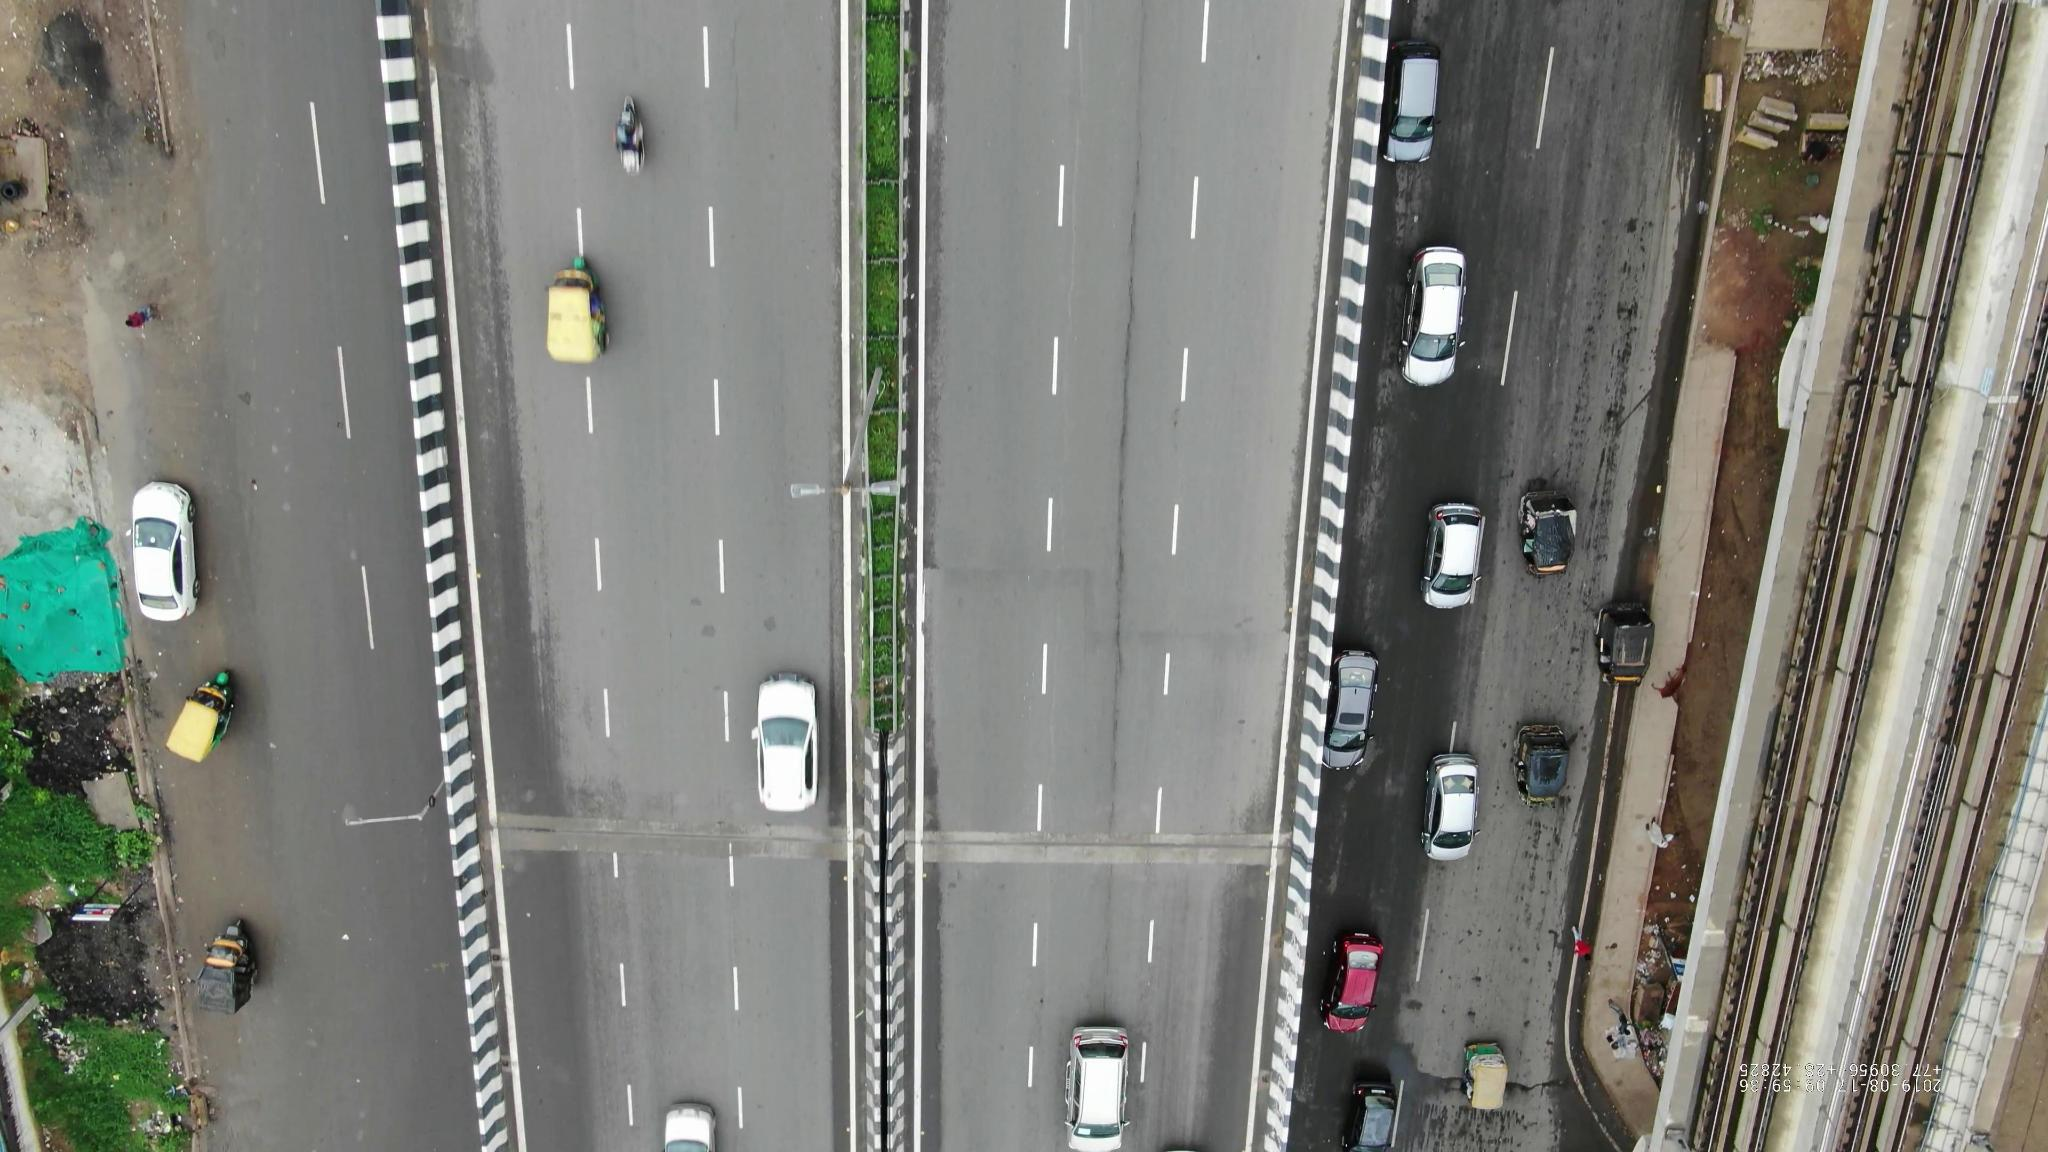Muddy_road: (37, 7, 179, 228), (158, 765, 270, 928), (98, 342, 205, 456)
Ravelling: (1106, 193, 1149, 506), (1100, 536, 1134, 841)
Road_side_garbage: (38, 1023, 191, 1151)
